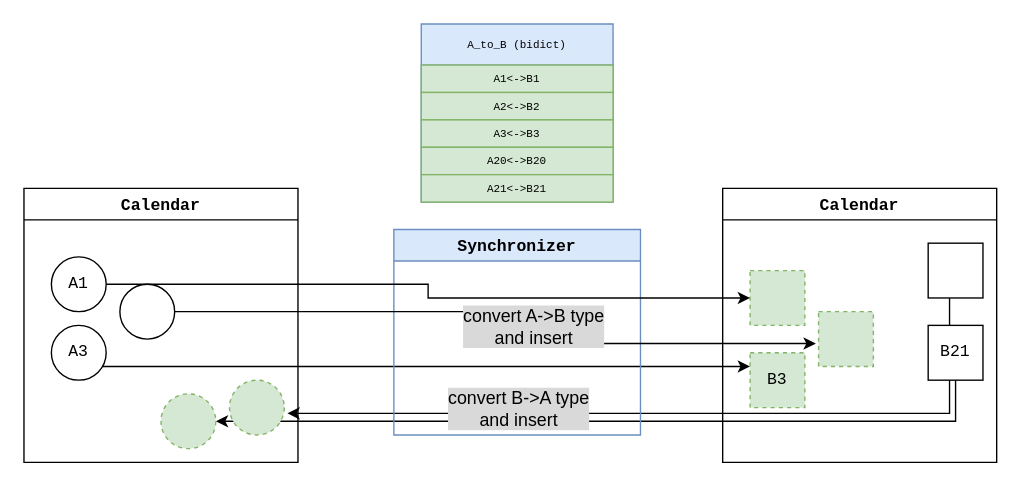
The diagram is 1021 pixels wide and 486 high, and some of its shapes have lost their labels. The shapes that lost their labels are listed below. From the top down, each one's box as (x1, y1, x2, y2) in pixels, then its label:
(927, 242, 983, 298): B20
(119, 283, 175, 339): A2
(749, 269, 805, 325): B1
(817, 310, 873, 366): B2
(160, 393, 216, 449): A21
(228, 379, 284, 435): A20
